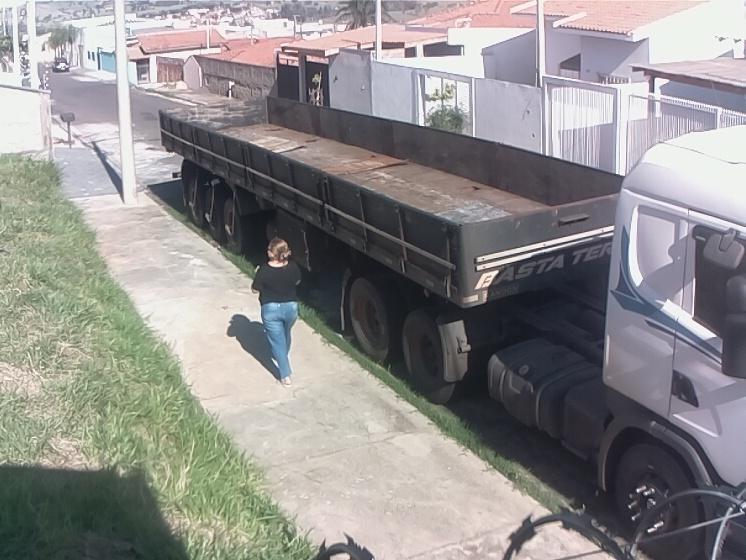person: (250, 234, 308, 393)
